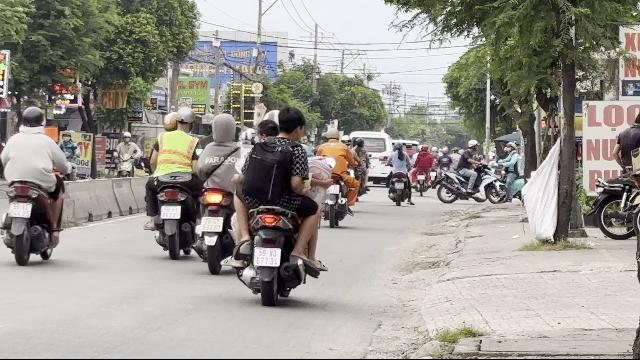helmet: (210, 112, 238, 142), (20, 106, 44, 130), (174, 106, 196, 132), (162, 112, 178, 132)
licenseplate: (253, 248, 280, 266), (8, 202, 32, 218), (201, 216, 223, 232), (160, 206, 180, 219)
motorcyclist: (228, 106, 328, 306), (0, 105, 70, 264), (140, 106, 204, 258), (195, 108, 248, 274)
nohelmet: (277, 107, 305, 141), (257, 118, 279, 145)
